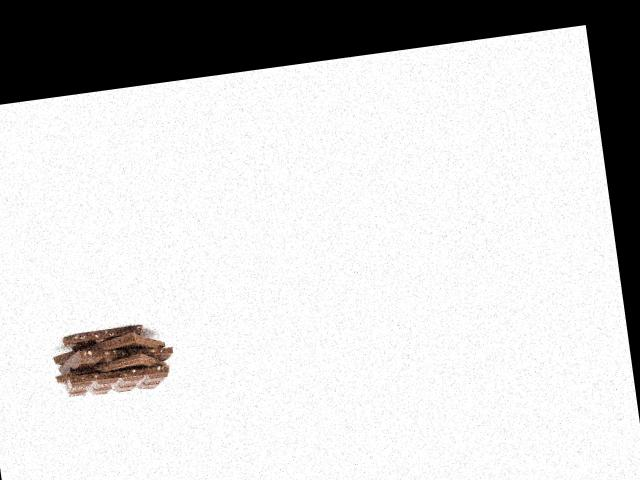chocolate: (51, 315, 166, 374)
